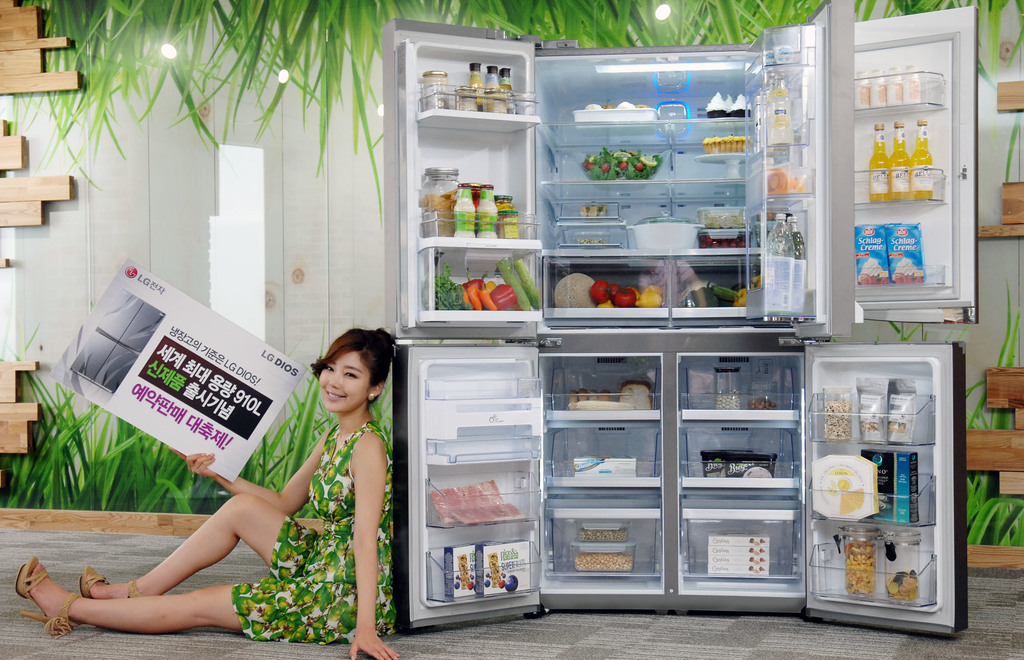refrigerator door: (802, 358, 951, 636), (392, 27, 534, 309), (401, 347, 542, 606), (851, 28, 969, 310), (761, 41, 850, 326)
